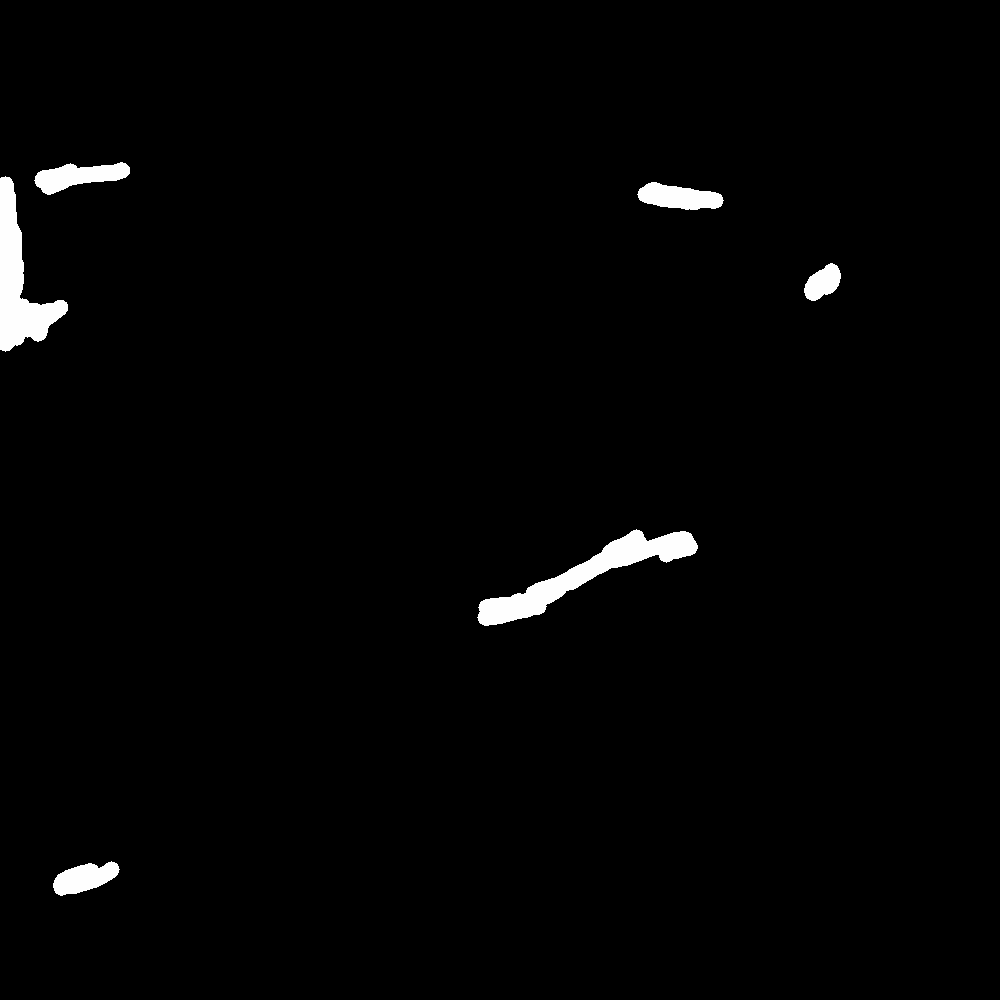illegal: (1, 180, 37, 378)
